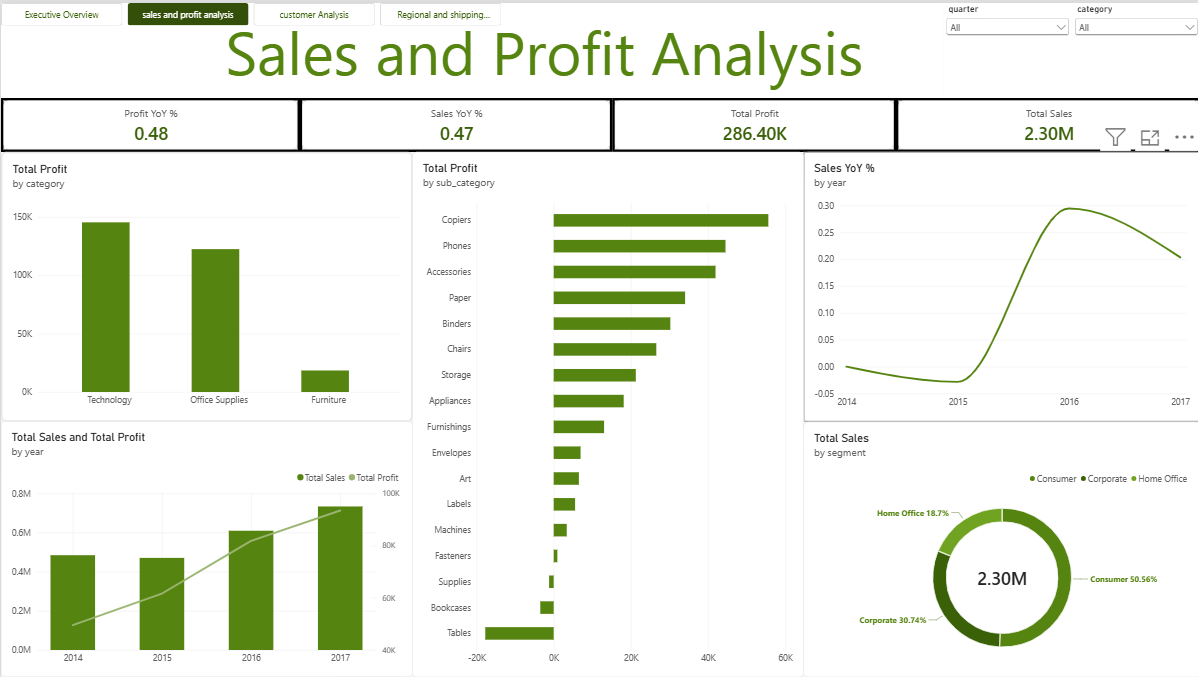

Layout of this report page (visuals, bound fields, positions):
{"tool":"powerbi","page":{"name":"sales and profit analysis","canvas":[1920,1080],"ordinal":1},"visuals":[{"type":"cardVisual","fields":{"Data":["fact_sales.Total Sales"]},"box":[1432,152,488,86],"z":0},{"type":"cardVisual","fields":{"Data":["fact_sales.Sales YoY %"]},"box":[478,152,500,86],"z":1000},{"type":"cardVisual","fields":{"Data":["fact_sales.Profit YoY %"]},"box":[0,152,478,86],"z":2000},{"type":"cardVisual","fields":{"Data":["fact_sales.Total Profit"]},"box":[978,152,454,86],"z":3000},{"type":"lineClusteredColumnComboChart","fields":{"Category":["dim_date.year"],"Y":["fact_sales.Total Sales"],"Y2":["fact_sales.Total Profit"]},"box":[0,668,658,412],"z":4000},{"type":"lineChart","fields":{"Category":["dim_date.year"],"Y":["fact_sales.Sales YoY %"]},"box":[1284,238,636,432],"z":5000},{"type":"clusteredColumnChart","fields":{"Category":["dim_product.category"],"Y":["fact_sales.Total Profit"]},"box":[0,238,658,432],"z":6000},{"type":"clusteredBarChart","fields":{"Category":["dim_product.sub_category"],"Y":["fact_sales.Total Profit"]},"box":[658,238,626,842],"z":7000},{"type":"donutChart","fields":{"Category":["dim_customer.segment"],"Y":["fact_sales.Total Sales"]},"box":[1284,670,636,410],"z":8000},{"type":"slicer","fields":{"Values":["dim_date.quarter"]},"box":[1508,0,206,152],"z":10000},{"type":"slicer","fields":{"Values":["dim_product.category"]},"box":[1714,0,206,152],"z":11000},{"type":"textbox","box":[0,0,1508,152],"z":12000},{"type":"pageNavigator","box":[0,0,800,36],"z":13000}]}

Visuals, with their boxes in screenshot pixels (x1, y1, x2, y2), scaled from the page's 1920x1080 canvas onto the 1198x677 screenshot:
cardVisual - fact_sales.Total Sales: BBox(894, 95, 1197, 149)
cardVisual - fact_sales.Sales YoY %: BBox(298, 95, 610, 149)
cardVisual - fact_sales.Profit YoY %: BBox(0, 95, 298, 149)
cardVisual - fact_sales.Total Profit: BBox(610, 95, 894, 149)
lineClusteredColumnComboChart - dim_date.year x fact_sales.Total Sales: BBox(0, 419, 411, 676)
lineChart - dim_date.year x fact_sales.Sales YoY %: BBox(801, 149, 1197, 420)
clusteredColumnChart - dim_product.category x fact_sales.Total Profit: BBox(0, 149, 411, 420)
clusteredBarChart - dim_product.sub_category x fact_sales.Total Profit: BBox(411, 149, 801, 676)
donutChart - dim_customer.segment x fact_sales.Total Sales: BBox(801, 420, 1197, 676)
slicer - dim_date.quarter: BBox(941, 0, 1069, 95)
slicer - dim_product.category: BBox(1069, 0, 1197, 95)
textbox: BBox(0, 0, 941, 95)
pageNavigator: BBox(0, 0, 499, 23)
